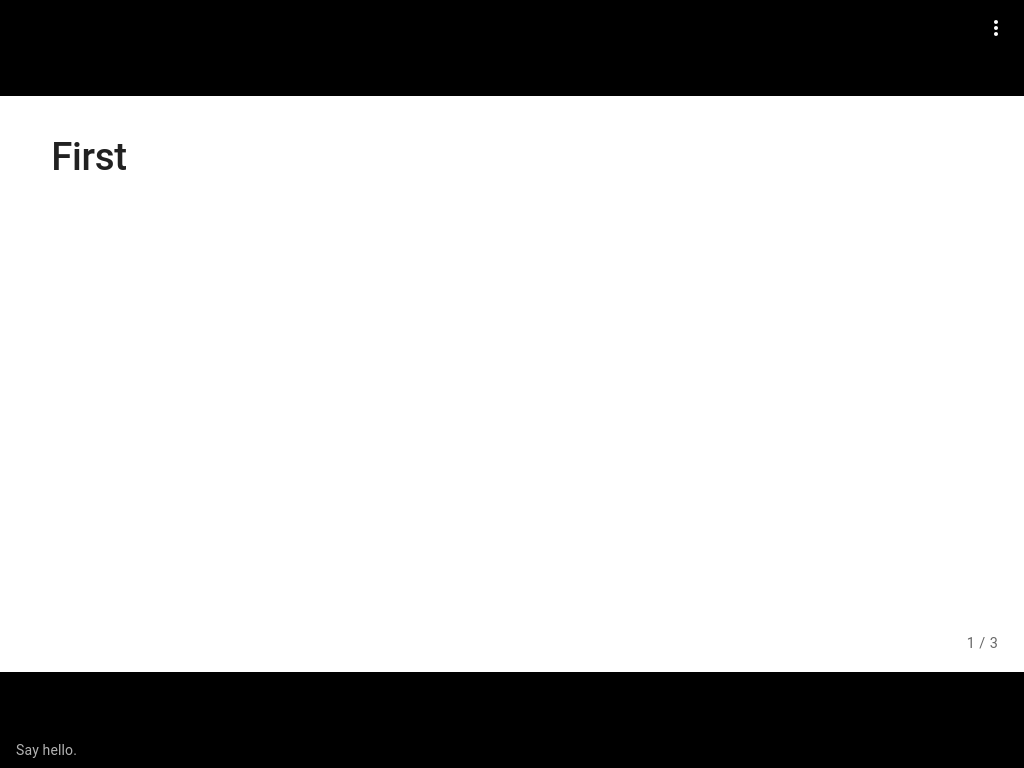
Scenario: printing › prints the slides split into pages
This screenshot has width=1024, height=768.
Type keys "{Control>}p{/Control}"
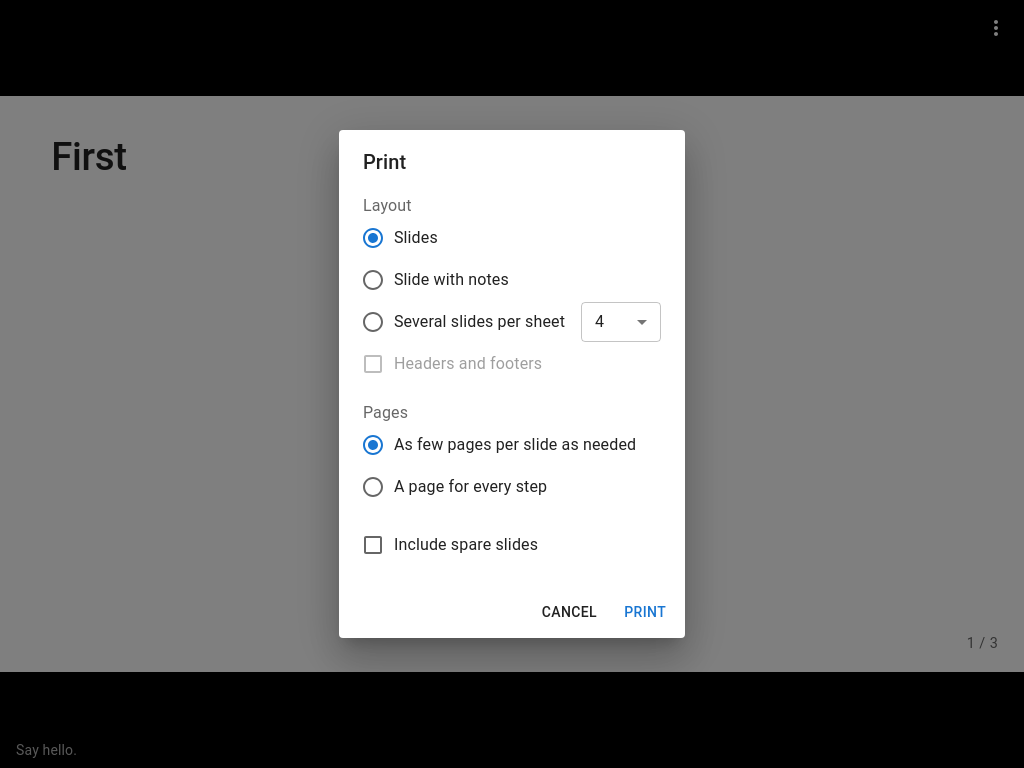
Expected: the dialog is shown, [339,130,685,638]
Click the button "Print" at (645, 612), box [613,594,677,630]
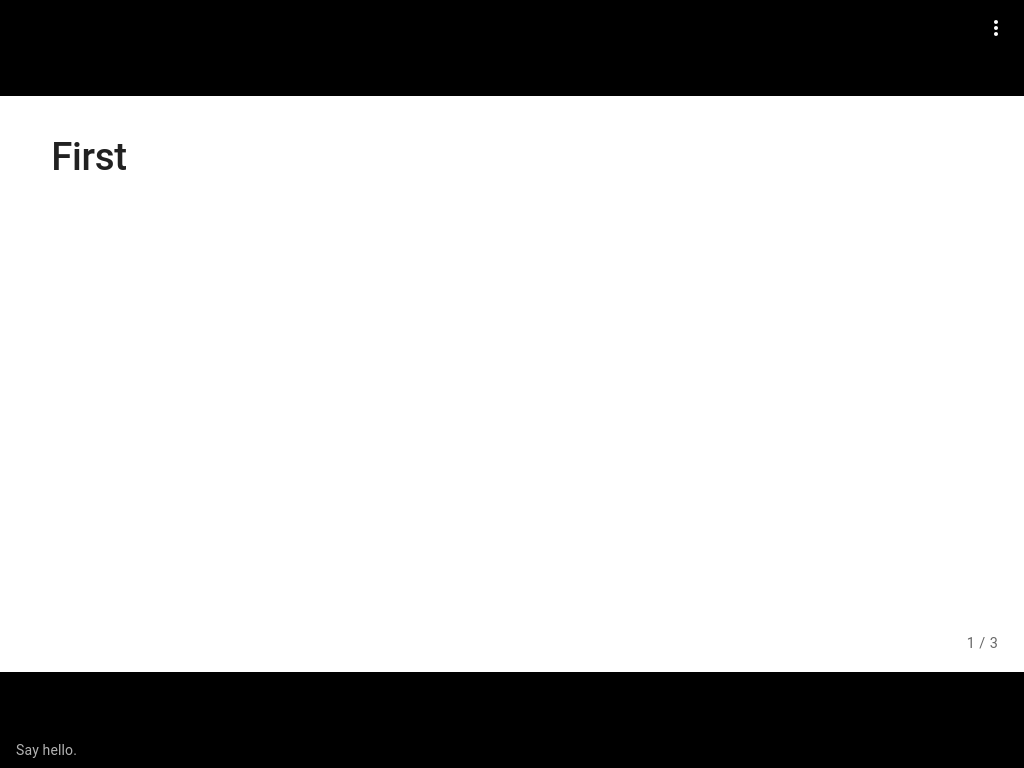
Expected: the dialog is gone
